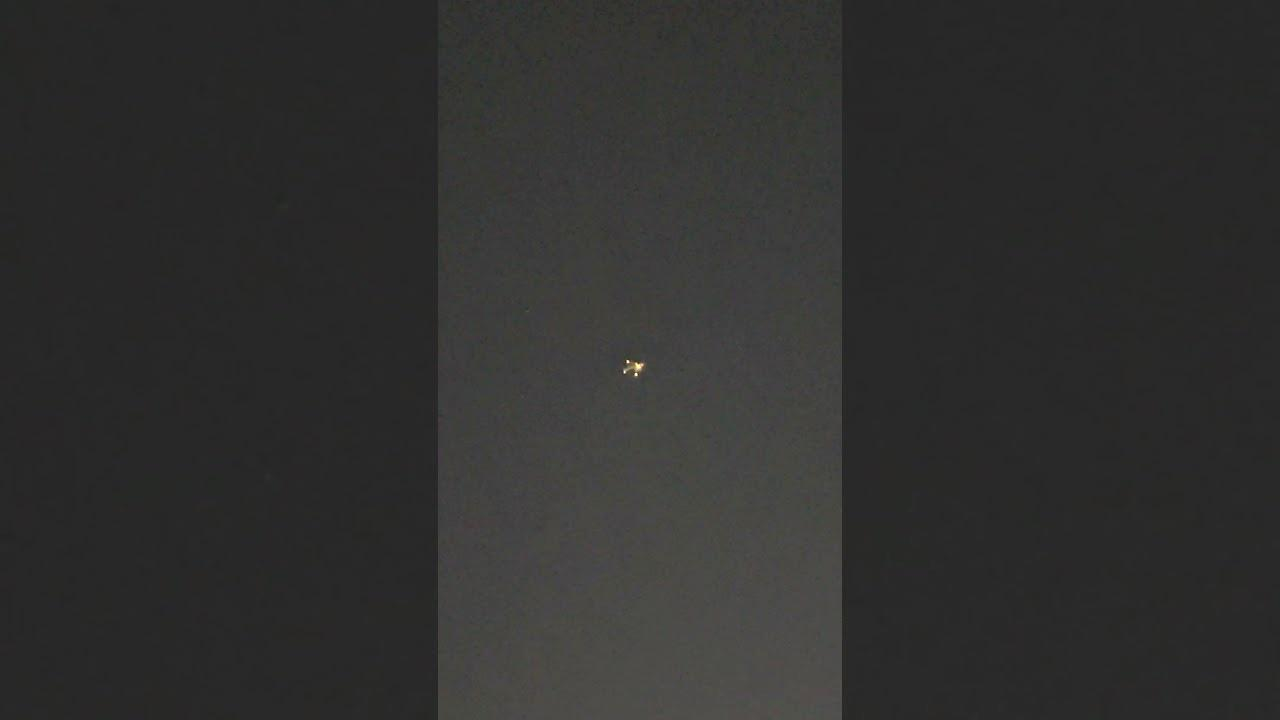Plane: (603, 347, 666, 390)
